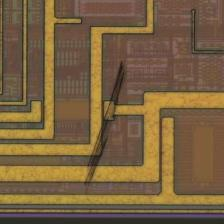SCRATCH: (80, 58, 133, 200)
